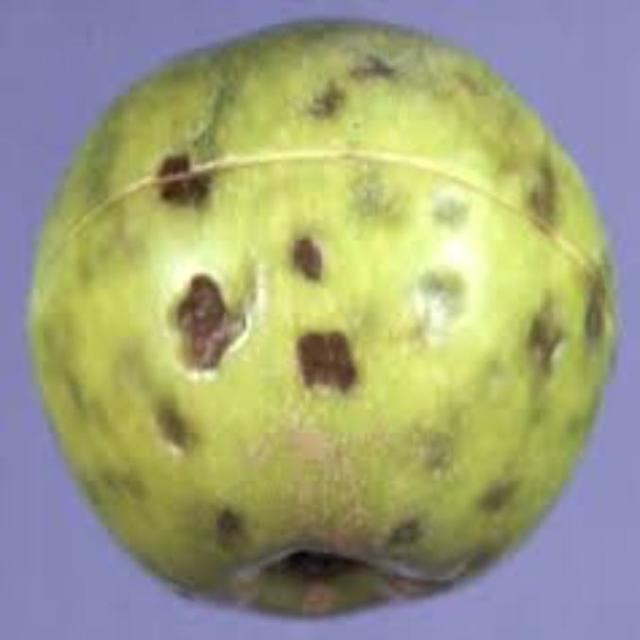Rotten Apple: (14, 24, 630, 633)
